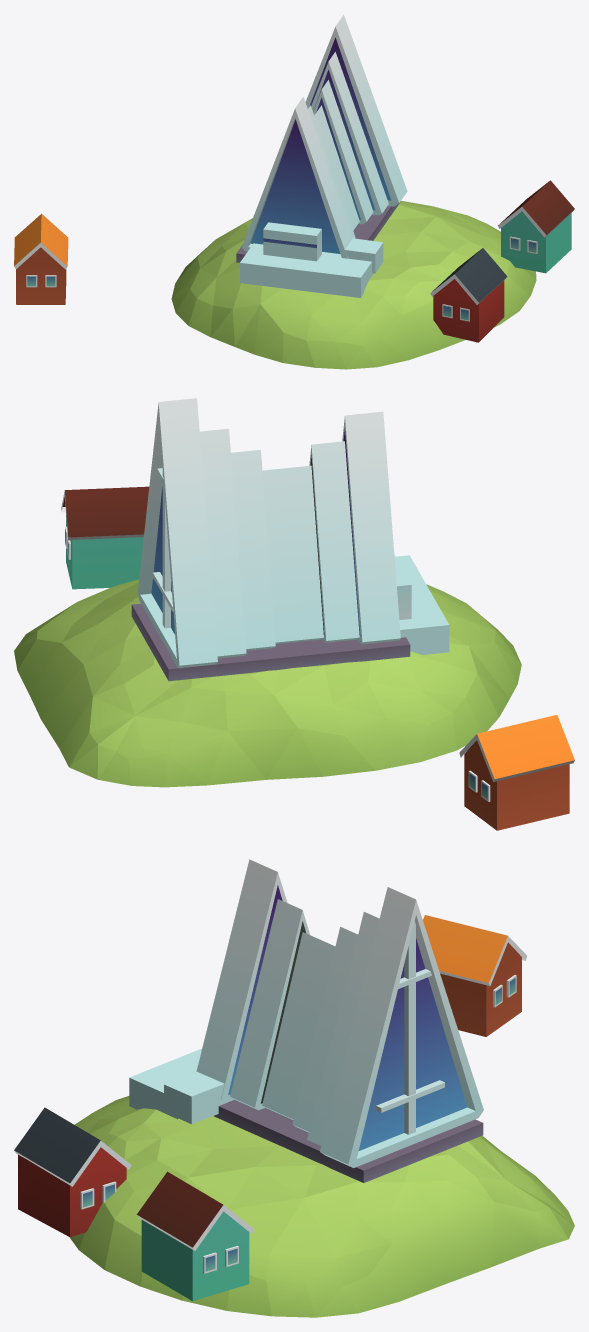
File: Tromso_Cathedral.fbx
The picture shows the model from 3 angles, top to bottom: view 1: azimuth 30°, elevation 25°; view 2: azimuth 150°, elevation 25°; view 3: azimuth 270°, elevation 25°; orthographic projection. The views are drawn at different scales.
Visible parts, largest first — view 1: Tromso_Cathedral; view 2: Tromso_Cathedral; view 3: Tromso_Cathedral.
Part boxes in pixels (<box>): Tromso_Cathedral: <box>14,14,574,369</box>; Tromso_Cathedral: <box>14,398,574,830</box>; Tromso_Cathedral: <box>14,859,574,1317</box>.
Size of the model in its own units: 1.71 by 0.8218 by 1.25.
1 material, 1 textured.
